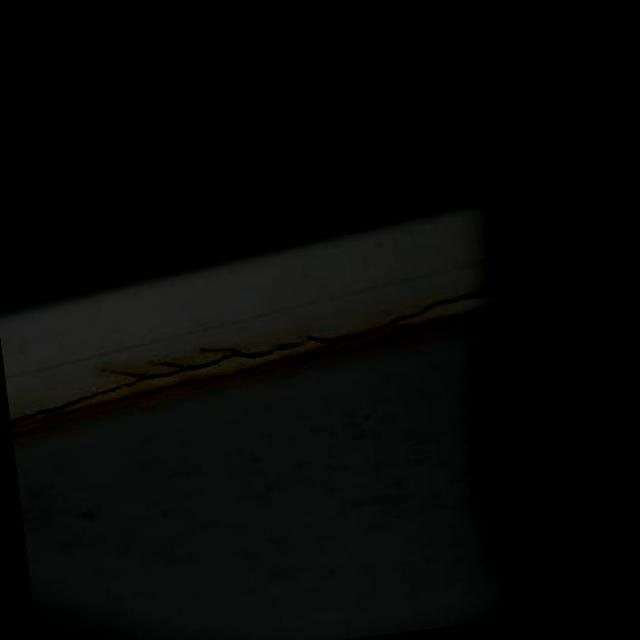crack: (306, 290, 497, 346), (10, 376, 158, 422), (156, 340, 308, 378)
